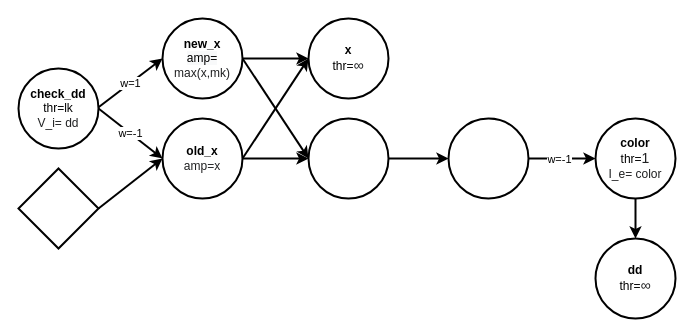
Image size: 693x336. Some labels were removed from this diagram. The box of each missing label's shape, as (x1, y1, x2, y2) in pixels:
1 singleton: (17, 167, 99, 249)
check_color thr= 1: (307, 117, 389, 199)
silencer thr= 1 V_r=1: (447, 117, 529, 199)
